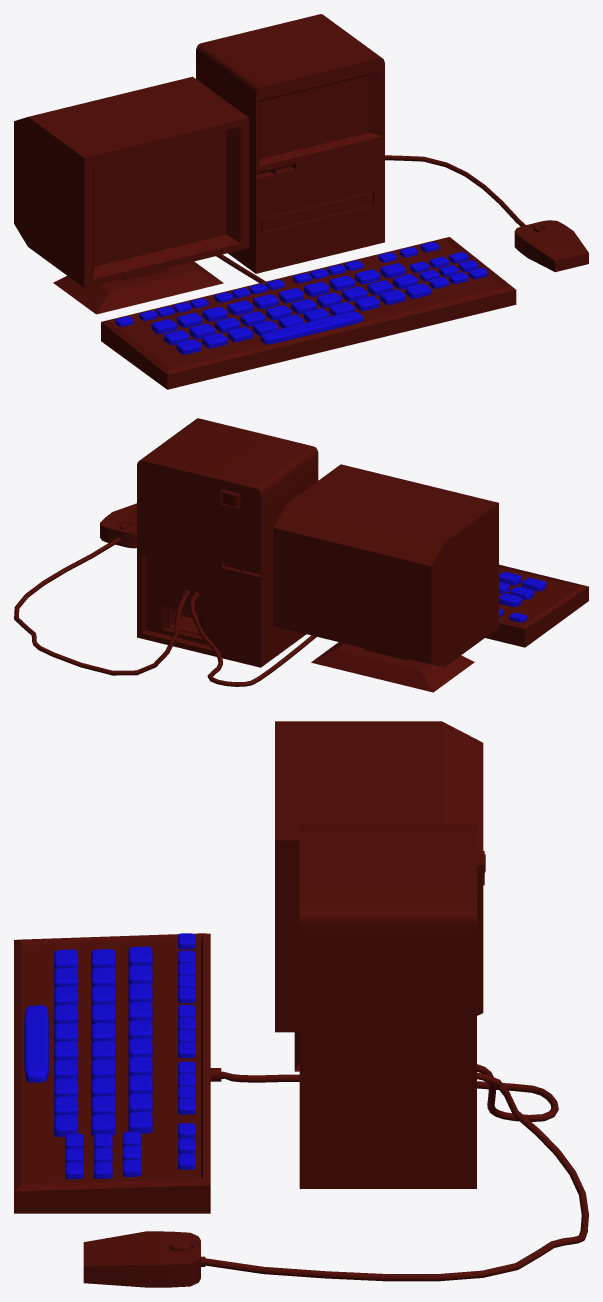
Rendered from Computer_Low.fbx.
3 renders of one model, top to bottom at view 1: azimuth 30°, elevation 25°; view 2: azimuth 150°, elevation 25°; view 3: azimuth 270°, elevation 25°, orthographic. The views are drawn at different scales.
Parts seen in each view (by area): view 1: Box004, Box003, Box001, Box036, Box005, Line002; view 2: Box004, Box003, Box001, Line002, Box036, Box005, Line001; view 3: Box003, Box001, Box004, Box036, Box005, Line002, Line001.
Part boxes in pixels (x1=…): Box004: x1=14, y1=76, x2=249, y2=314; Box003: x1=196, y1=14, x2=384, y2=273; Box001: x1=101, y1=237, x2=516, y2=389; Box036: x1=115, y1=241, x2=487, y2=354; Box005: x1=514, y1=220, x2=588, y2=272; Line002: x1=385, y1=155, x2=525, y2=226; Box004: x1=273, y1=464, x2=498, y2=692; Box003: x1=137, y1=418, x2=318, y2=667; Box001: x1=485, y1=564, x2=588, y2=647; Line002: x1=14, y1=538, x2=187, y2=675; Box036: x1=499, y1=572, x2=546, y2=622; Box005: x1=100, y1=503, x2=136, y2=548; Line001: x1=189, y1=594, x2=316, y2=686; Box003: x1=299, y1=824, x2=485, y2=1188; Box001: x1=14, y1=933, x2=210, y2=1213; Box004: x1=275, y1=721, x2=483, y2=1071; Box036: x1=24, y1=933, x2=195, y2=1179; Box005: x1=83, y1=1231, x2=200, y2=1287; Line002: x1=205, y1=1072, x2=588, y2=1281; Line001: x1=221, y1=1064, x2=558, y2=1121.
Size of the model in its own units: 104 by 43.37 by 77.94.
